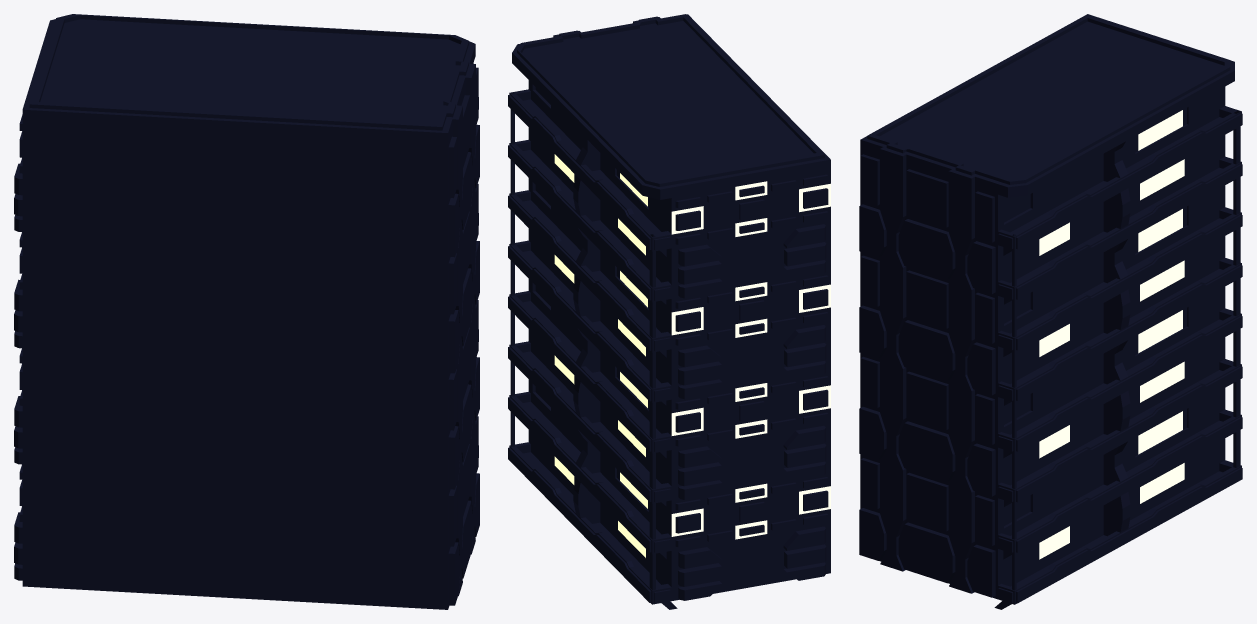
The model's file is building1.fbx.
3 views of the same model, side by side, from view 1: azimuth 30°, elevation 25°; view 2: azimuth 150°, elevation 25°; view 3: azimuth 270°, elevation 25° (orthographic). The views are drawn at different scales.
Visible parts, largest first — view 1: Cube.049; view 2: Cube.049; view 3: Cube.049.
Boxes of the visible parts, bbox=[...] form: Cube.049: bbox=[14, 14, 479, 609]; Cube.049: bbox=[508, 14, 830, 609]; Cube.049: bbox=[859, 14, 1242, 609].
Size of the model in its own units: 2949 by 3387 by 2714.
